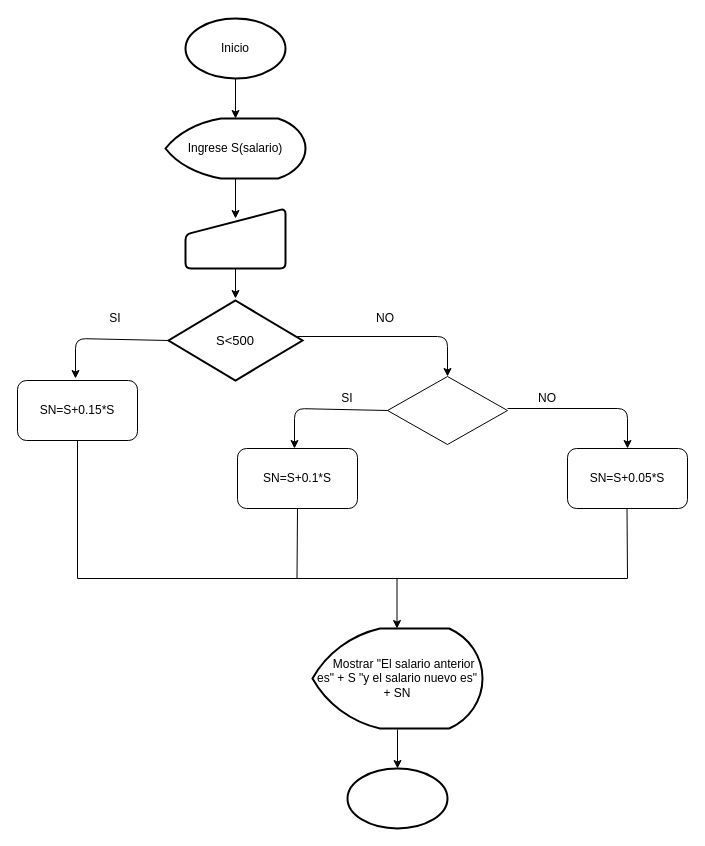
The diagram is 705 pixels wide and 846 high, and some of its shapes have lost their labels. The shapes that lost their labels are listed below. From the top down, each one's box as (x1, y1, x2, y2) in pixels, then its label:
(184, 207, 286, 269): Leer (S)
(386, 376, 508, 444): S<1000
(346, 767, 448, 829): Fin
